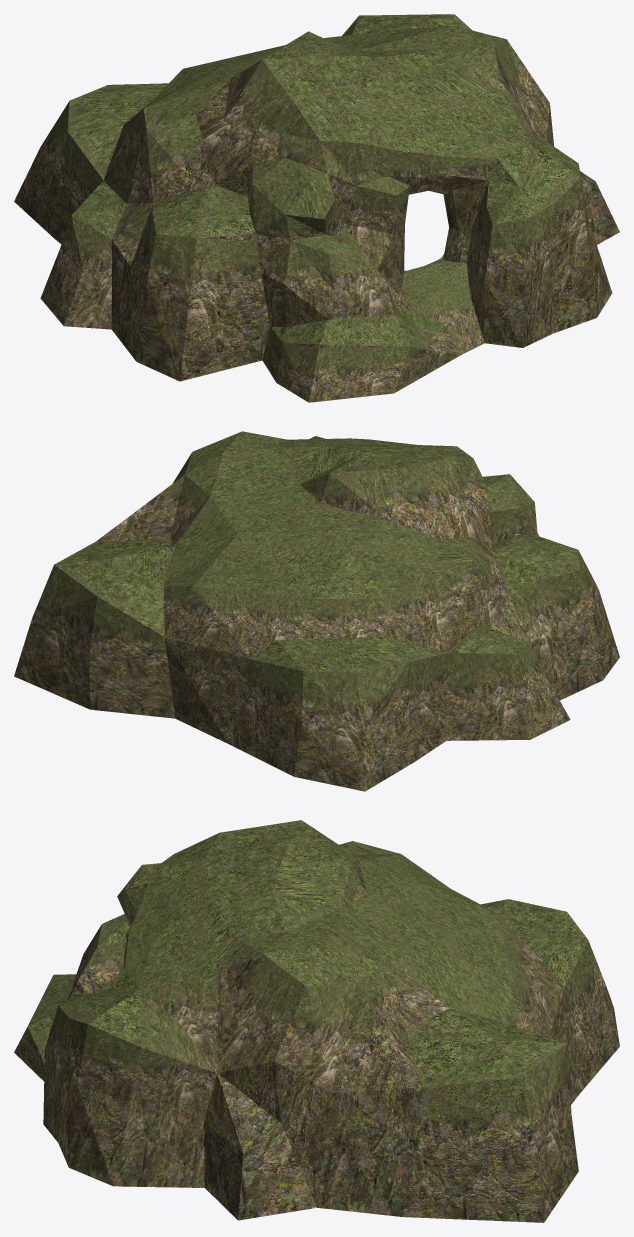
File: poi_all_bunker_mad_bio_s01_r0_mesh_l2.fbx
3 renders of one model, top to bottom at view 1: azimuth 30°, elevation 25°; view 2: azimuth 150°, elevation 25°; view 3: azimuth 270°, elevation 25°, orthographic. The views are drawn at different scales.
Parts seen in each view (by area): view 1: mesh_node; view 2: mesh_node; view 3: mesh_node.
Part boxes in pixels (left/top/right/bottom): mesh_node: left=14, top=14, right=619, bottom=402; mesh_node: left=14, top=431, right=619, bottom=791; mesh_node: left=14, top=820, right=619, bottom=1222.
Bounding box in the file's own units: 90.32 × 38.26 × 88.91.
